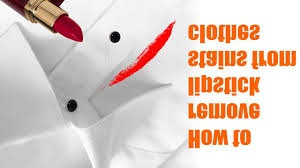lipstick: (138, 22, 179, 64), (107, 55, 144, 87)
